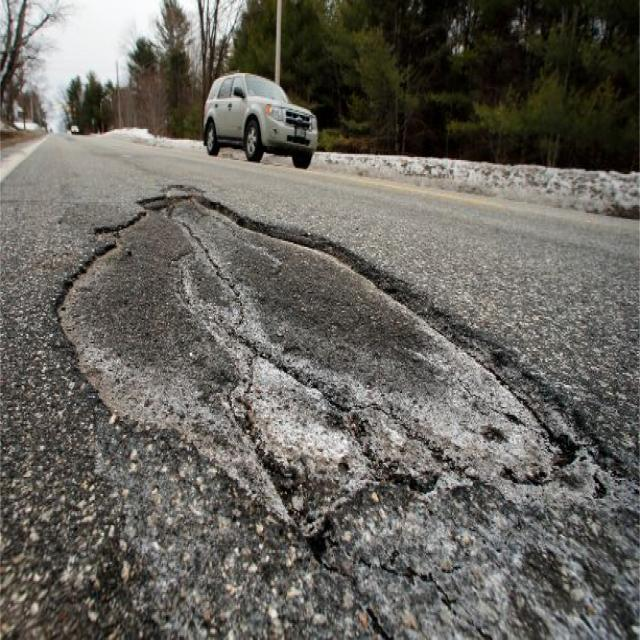Pothole: (51, 175, 584, 539)
